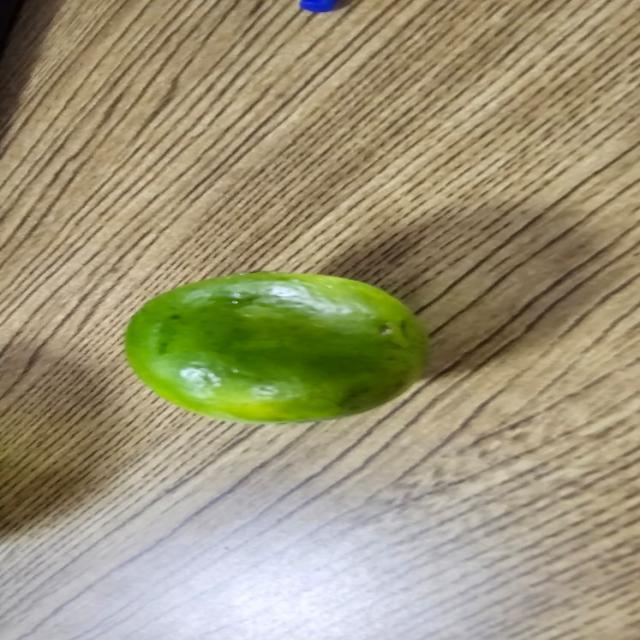Lemon: (114, 262, 448, 429)
